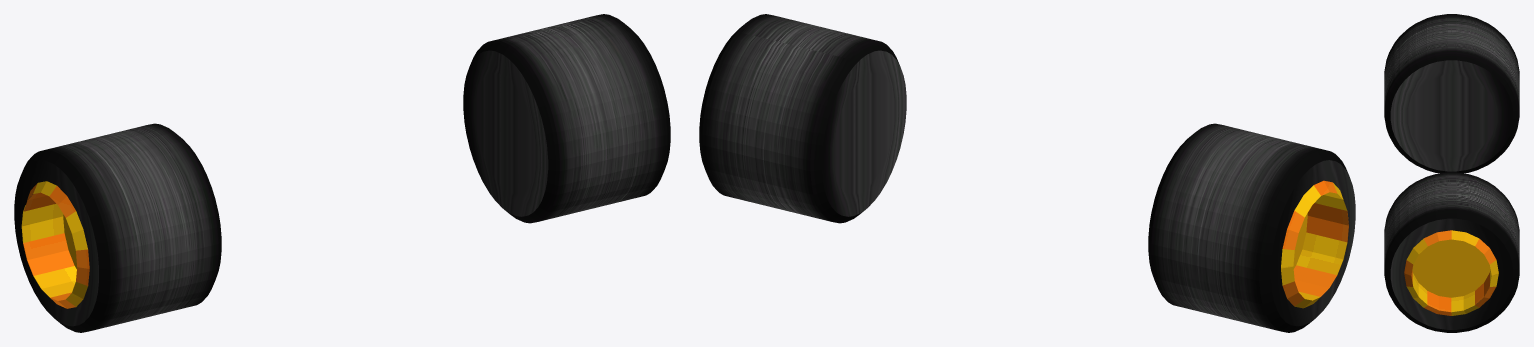
The model's file is LlantasFrente.obj.
3 views of the same model, side by side, from view 1: azimuth 30°, elevation 25°; view 2: azimuth 150°, elevation 25°; view 3: azimuth 270°, elevation 25° (orthographic). The views are drawn at different scales.
Parts seen in each view (by area): view 1: Llantas1:polySurface11; view 2: Llantas1:polySurface11; view 3: Llantas1:polySurface11.
Part boxes in pixels (box(x1,y1,x2,y2)): Llantas1:polySurface11: box(14, 14, 670, 332); Llantas1:polySurface11: box(699, 14, 1355, 332); Llantas1:polySurface11: box(1384, 14, 1519, 332).
Bounding box in the file's own units: 0.4068 × 0.1122 × 0.1122.
Materials: 2 (2 with a texture image).
